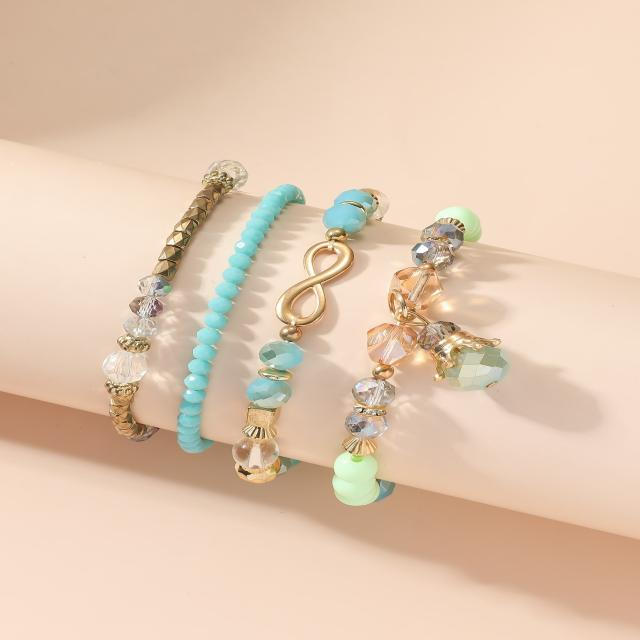bracelet: (74, 114, 587, 541)
